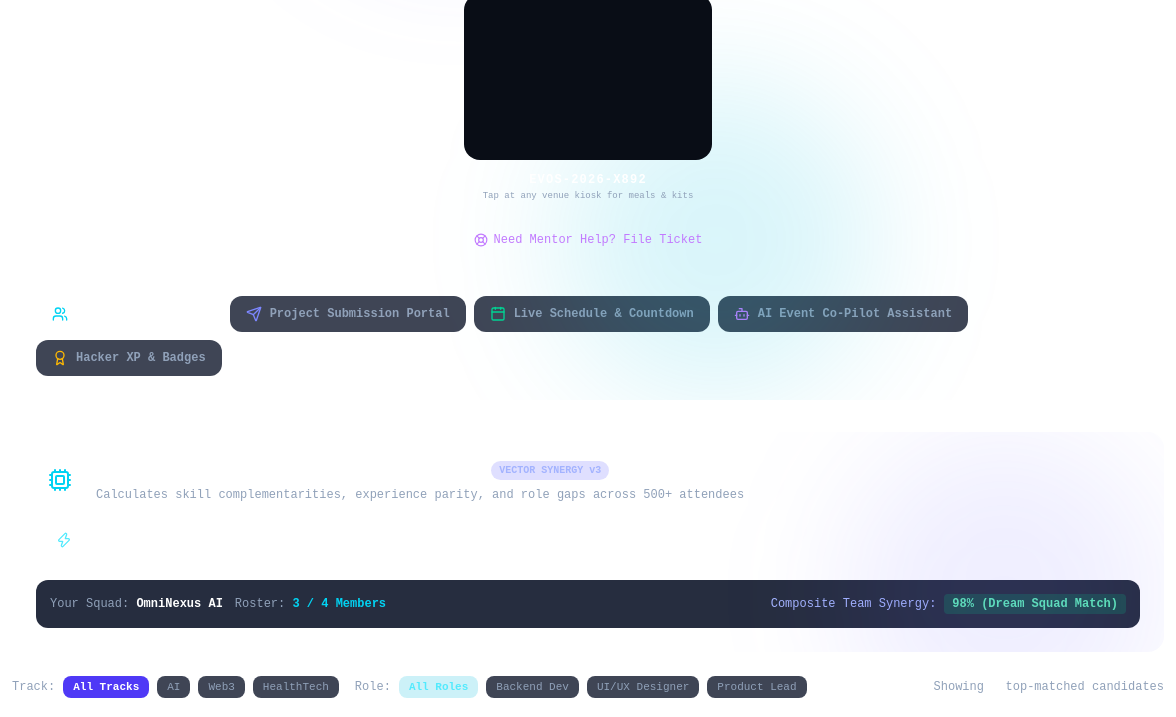
Test: ParticipantDashboard › shows badges section
The image size is (1176, 717).
(page scrolled)
Click the tab "Hacker XP & Badges" at (129, 358), box x1=36 y1=340 x2=222 y2=376
(page scrolled)
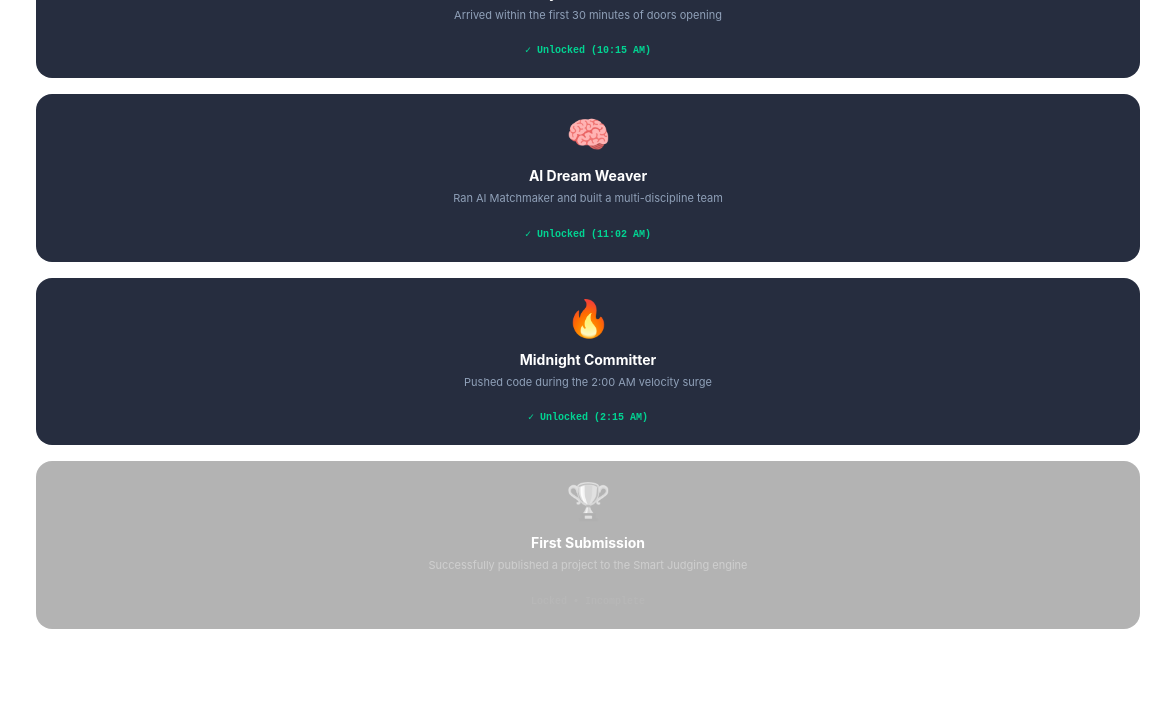
Check: the heading "AI Dream Weaver" is shown, box x1=529 y1=167 x2=647 y2=184
Check: the heading "Midnight Committer" is shown, box x1=520 y1=350 x2=656 y2=368
Check: the heading "First Submission" is shown, box x1=531 y1=534 x2=645 y2=551
